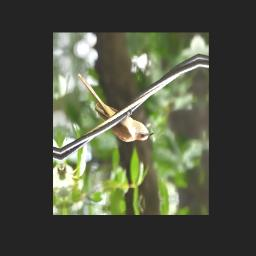Cuckoo: (76, 62, 155, 151)
